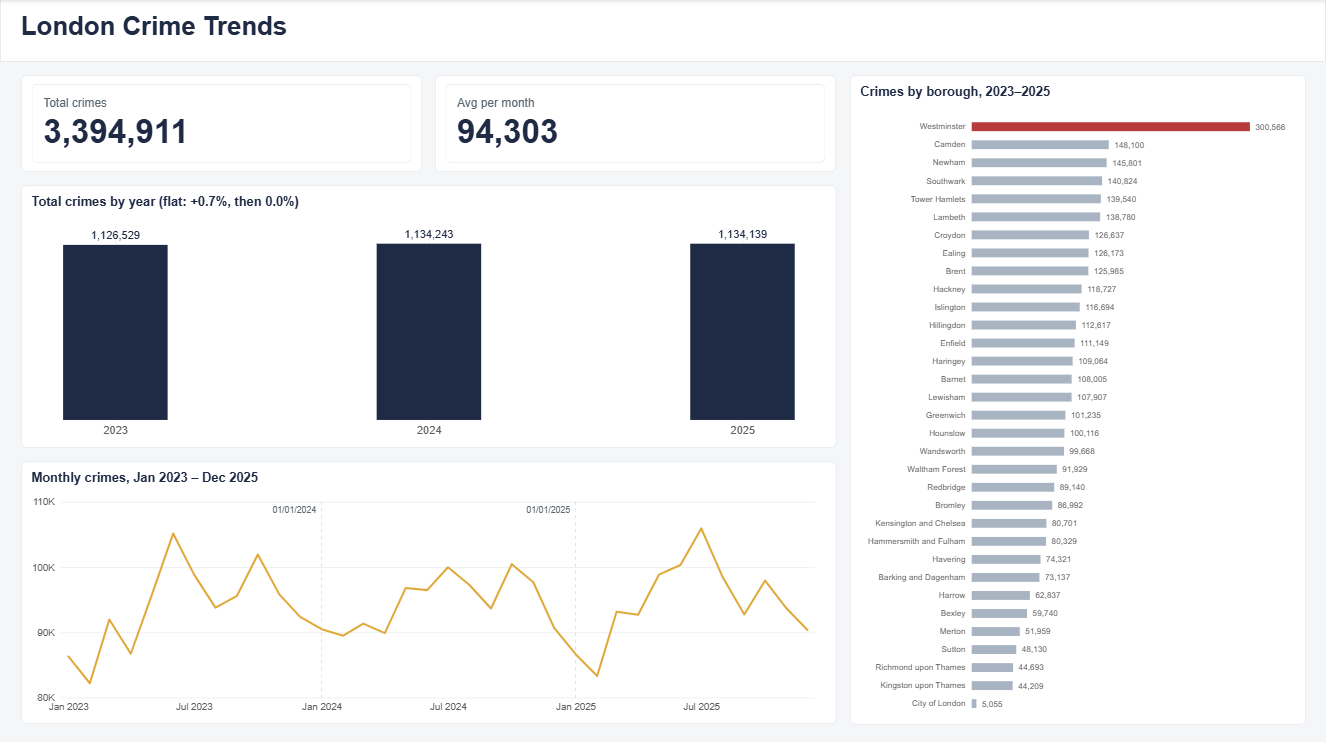

This screenshot's page, from the dashboard's own definition file:
{"tool":"powerbi","page":{"name":"Overview","canvas":[1920,1080],"ordinal":0},"visuals":[{"type":"cardVisual","fields":{"Data":["crimes.Avg per month"]},"box":[630,110,580,140],"z":0},{"type":"textbox","box":[0,0,1920,90],"z":2000},{"type":"cardVisual","fields":{"Data":["crimes.Total crimes"]},"box":[30,110,580,140],"z":3000},{"type":"clusteredColumnChart","title":"Total crimes by year (flat: +0.7%, then 0.0%)","fields":{"Category":["crimes.Year"],"Y":["crimes.Total crimes"]},"box":[30,270,1180,380],"z":4000},{"type":"lineChart","title":"Monthly crimes, Jan 2023 – Dec 2025","fields":{"Category":["crimes.Month"],"Y":["crimes.Total crimes"]},"box":[30,670,1180,380],"z":5000},{"type":"clusteredBarChart","title":"Crimes by borough, 2023–2025","fields":{"Category":["crimes.Borough"],"Y":["crimes.Total crimes"]},"box":[1230,110,660,940],"z":6000}]}

Visuals, with their boxes in screenshot pixels (x1, y1, x2, y2), scaled from the page's 1920x1080 canvas onto the 1326x742 screenshot:
cardVisual - crimes.Avg per month: [left=435, top=76, right=836, bottom=172]
textbox: [left=0, top=0, right=1325, bottom=62]
cardVisual - crimes.Total crimes: [left=21, top=76, right=421, bottom=172]
"Total crimes by year (flat: +0.7%, then 0.0%)" clusteredColumnChart: [left=21, top=186, right=836, bottom=447]
"Monthly crimes, Jan 2023 – Dec 2025" lineChart: [left=21, top=460, right=836, bottom=721]
"Crimes by borough, 2023–2025" clusteredBarChart: [left=849, top=76, right=1305, bottom=721]
